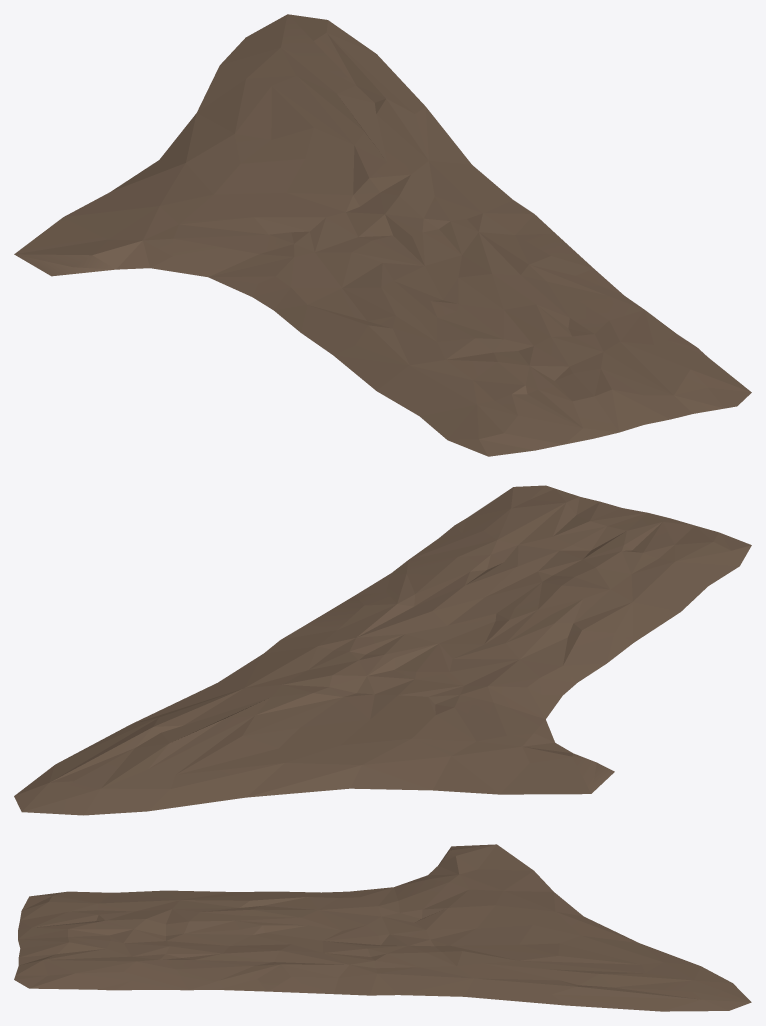
Rendered from SM_Env_Road_Dirt_Loop_Connect_02.glb.
The picture shows the model from 3 angles, top to bottom: view 1: azimuth 30°, elevation 25°; view 2: azimuth 150°, elevation 25°; view 3: azimuth 270°, elevation 25°; orthographic projection. The views are drawn at different scales.
Visible parts, largest first — view 1: SM_Env_Road_Dirt_Loop_Connect_02; view 2: SM_Env_Road_Dirt_Loop_Connect_02; view 3: SM_Env_Road_Dirt_Loop_Connect_02.
Boxes of the visible parts, <box> form: SM_Env_Road_Dirt_Loop_Connect_02: <box>14,14,751,456</box>; SM_Env_Road_Dirt_Loop_Connect_02: <box>14,485,751,815</box>; SM_Env_Road_Dirt_Loop_Connect_02: <box>14,844,751,1011</box>.
Bounding box in the file's own units: 742 × 19.34 × 1384.
Materials: 1 (1 with a texture image).
